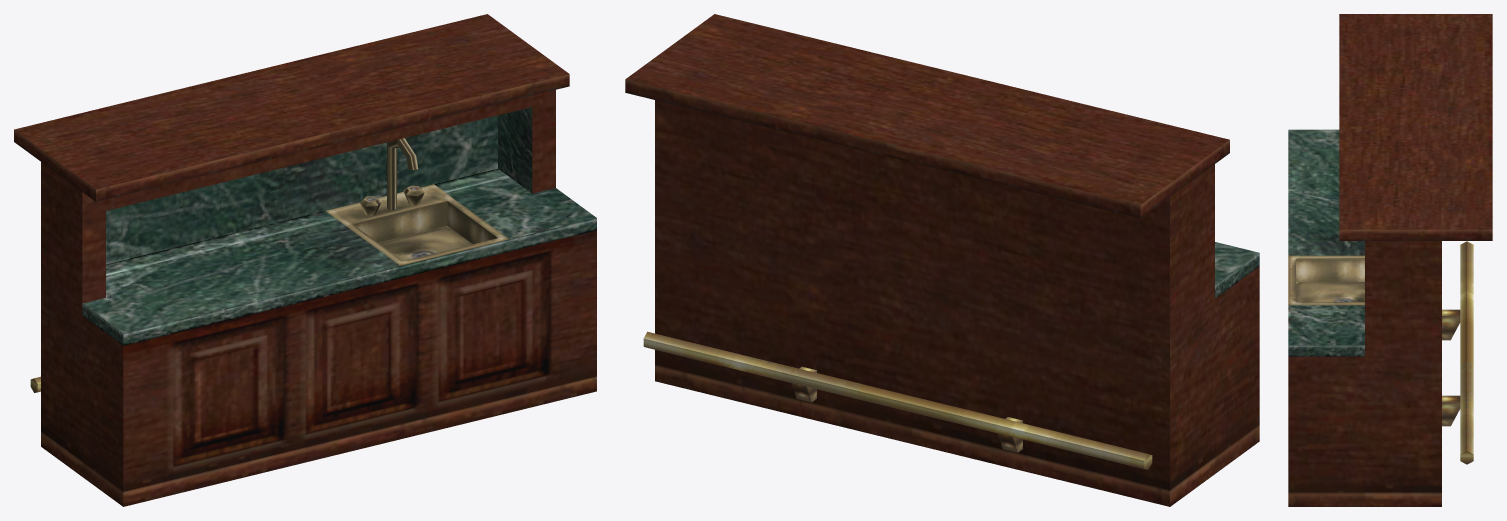
File: woodbar.fbx
The picture shows the model from 3 angles, left to right: view 1: azimuth 30°, elevation 25°; view 2: azimuth 150°, elevation 25°; view 3: azimuth 270°, elevation 25°; orthographic projection. The views are drawn at different scales.
Parts seen in each view (by area): view 1: mesh_0; view 2: mesh_0; view 3: mesh_0.
Part boxes in pixels (x1,y1,x2,y2): mesh_0: (14,14,596,506); mesh_0: (625,14,1259,506); mesh_0: (1288,14,1492,506).
Size of the model in its own units: 200 by 120 by 80.
Materials: 1 (1 with a texture image).
